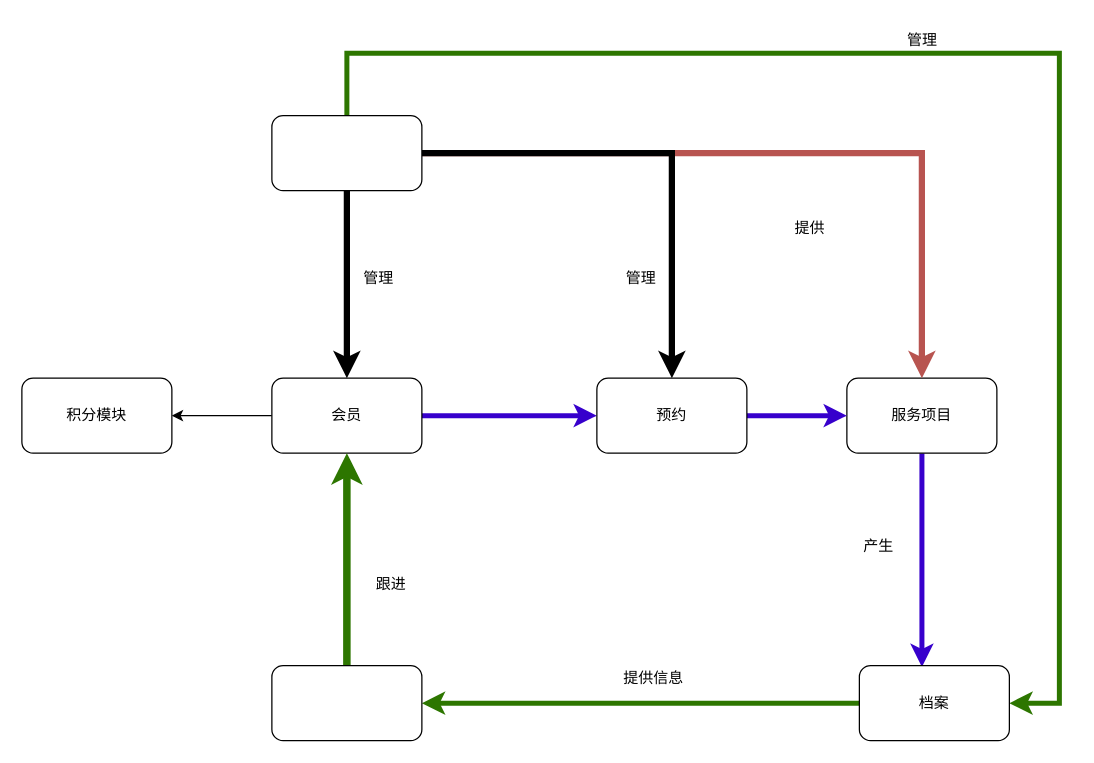
This 1094x763 diagram has some shape labels left out. Each missing label, with the centre of its shape:
VIP服务: (x=346, y=702)
员工: (x=346, y=152)
